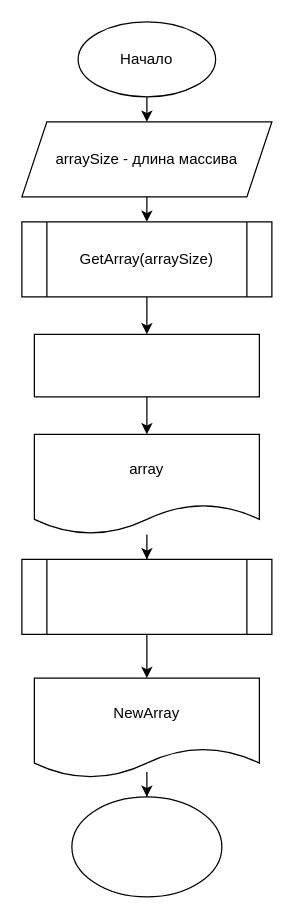
Image size: 294x919. Some labels were removed from this diagram. Each missing label, with the centre of its shape:
array = GetArray(arraySize): the point at 146,365
NewArray (array): the point at 146,596
Конец: the point at 146,846
